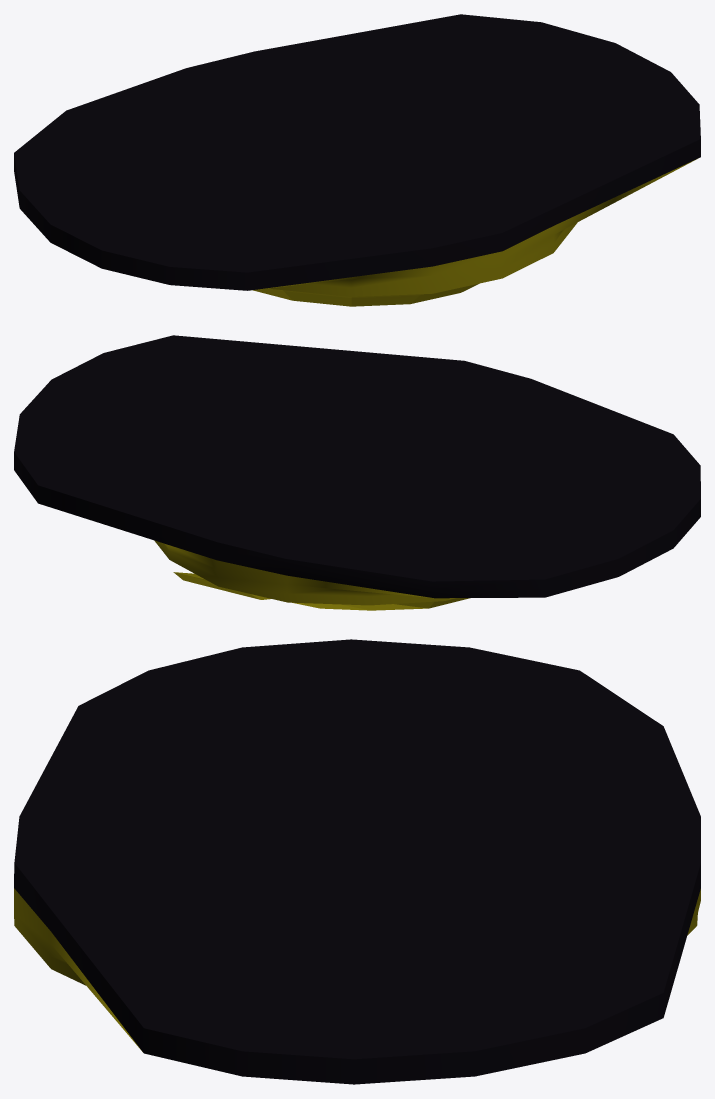
The model's file is Platformer.FBX.
The picture shows the model from 3 angles, top to bottom: view 1: azimuth 30°, elevation 25°; view 2: azimuth 150°, elevation 25°; view 3: azimuth 270°, elevation 25°; orthographic projection. The views are drawn at different scales.
Parts seen in each view (by area): view 1: PlatformerTop, Platformer; view 2: PlatformerTop, Platformer; view 3: PlatformerTop, Platformer.
Boxes of the visible parts, bbox=[...] form: PlatformerTop: bbox=[14, 14, 700, 290]; Platformer: bbox=[253, 158, 698, 306]; PlatformerTop: bbox=[14, 335, 700, 598]; Platformer: bbox=[154, 540, 470, 610]; PlatformerTop: bbox=[14, 639, 700, 1084]; Platformer: bbox=[14, 888, 700, 1051].
Size of the model in its own units: 50.21 by 7.03 by 34.72.
